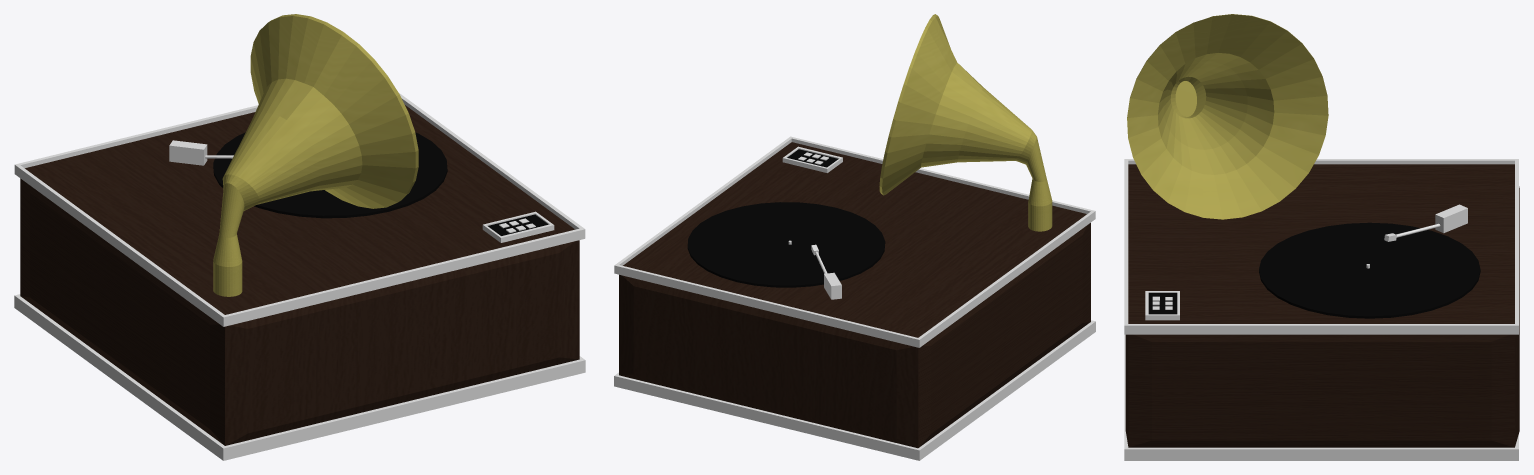
File: RecordPlayerTest.fbx
3 views of the same model, side by side, from view 1: azimuth 30°, elevation 25°; view 2: azimuth 150°, elevation 25°; view 3: azimuth 270°, elevation 25° (orthographic). The views are drawn at different scales.
Visible parts, largest first — view 1: Cube; view 2: Cube; view 3: Cube.
Boxes of the visible parts, x1,y1,x2,y2 form: Cube: (14,14,585,460); Cube: (614,14,1095,460); Cube: (1124,14,1519,460).
Bounding box in the file's own units: 715 × 693 × 716.
